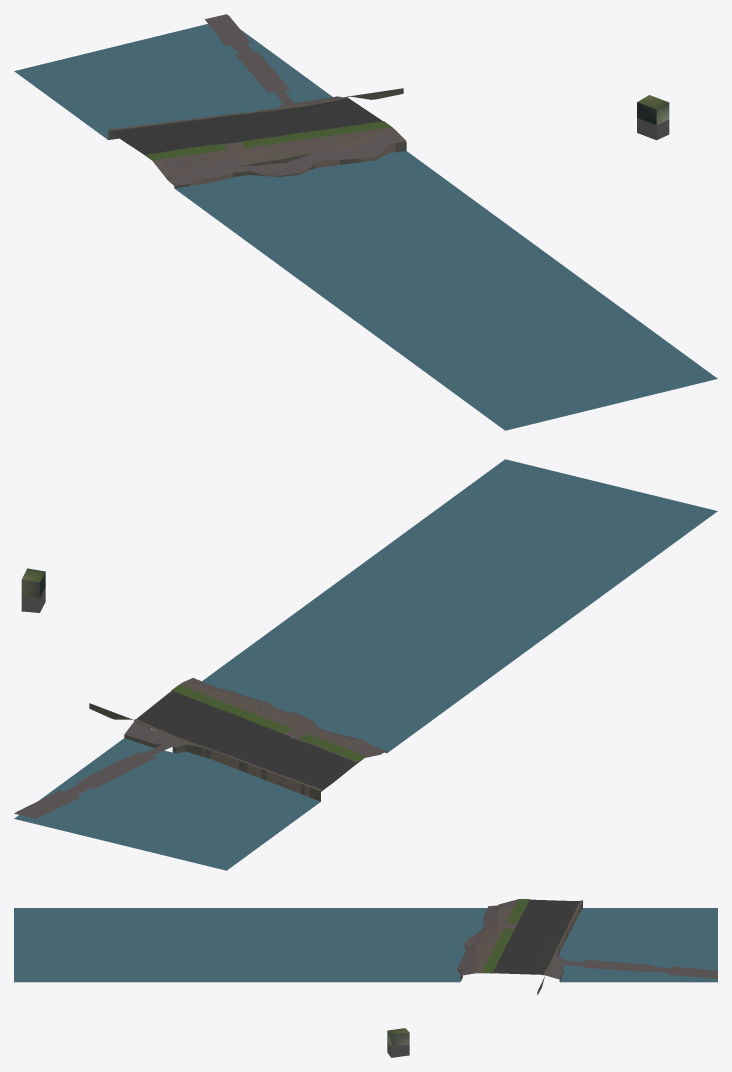
3 views of the same model, one above another, from view 1: azimuth 30°, elevation 25°; view 2: azimuth 150°, elevation 25°; view 3: azimuth 270°, elevation 25° (orthographic). The views are drawn at different scales.
Visible parts, largest first — view 1: c_p06_m04; view 2: c_p06_m04; view 3: c_p06_m04.
Boxes of the visible parts, box(x1,y1,x2,y2) form: c_p06_m04: box(14, 14, 717, 430); c_p06_m04: box(14, 459, 717, 870); c_p06_m04: box(14, 899, 717, 1057).
Bounding box in the file's own units: 64.28 × 4.62 × 128.
